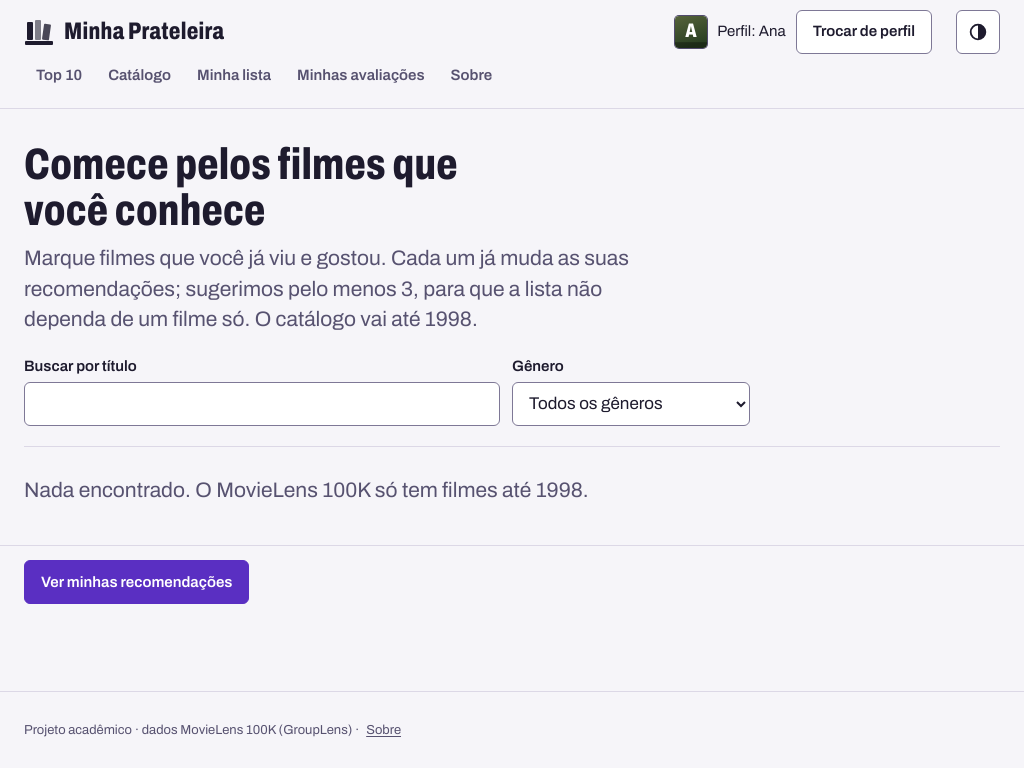
Scenario: erro preso ao perfil e conclusão única › o erro do perfil A não aparece no onboarding do perfil B
This screenshot has width=1024, height=768.
Expected: the text "Perfil: Ana" is shown, [717,20,786,44]
Click the link "Top 10".
click(59, 75)  # box [36,67,82,83]
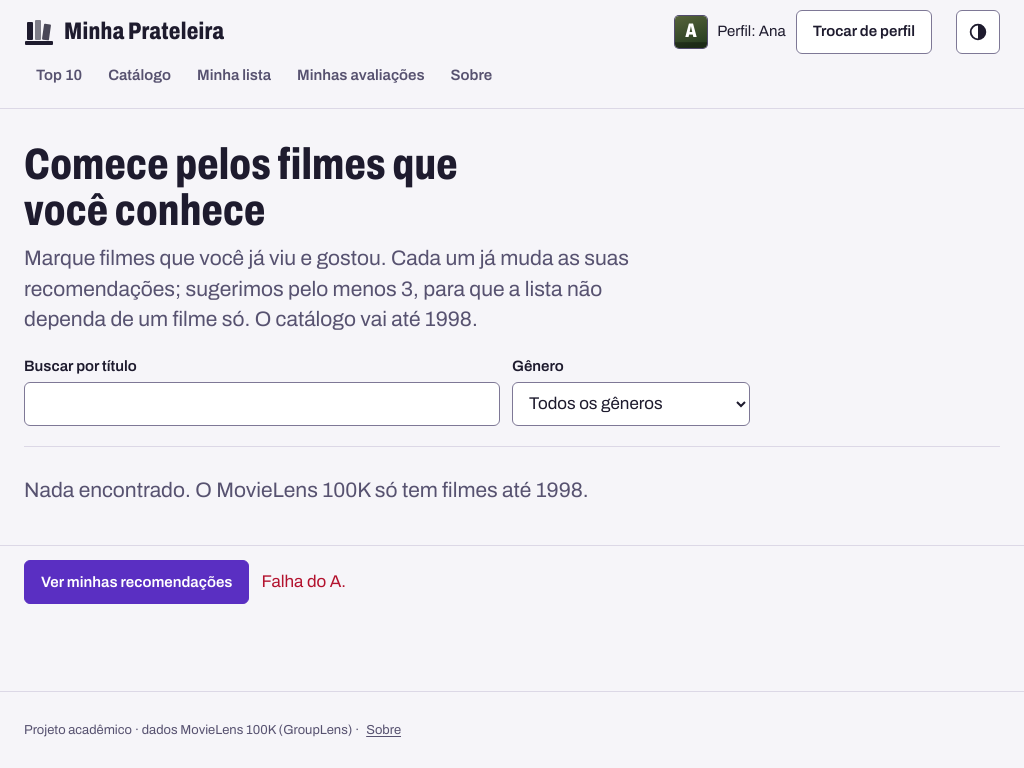
Result: the message reads "Falha do A." at [261,572,346,591]
Click the button "Trocar de perfil".
click(864, 32)  # box [796,10,932,54]
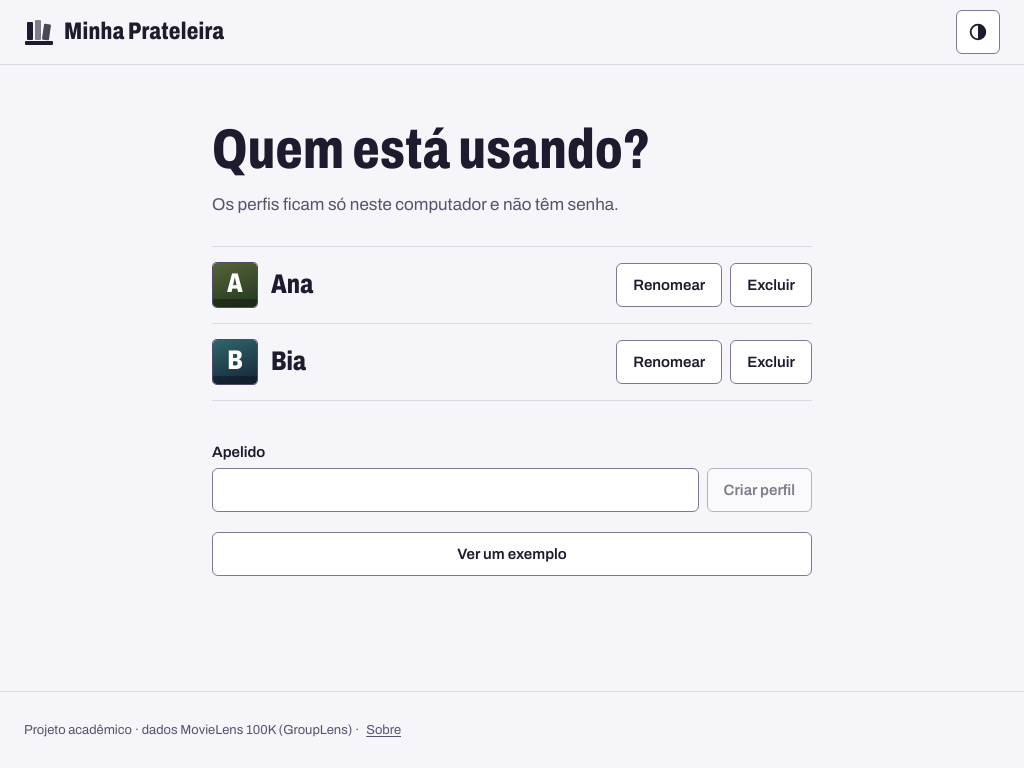
Click the button "B Bia".
click(235, 362)  # box [212,334,608,390]
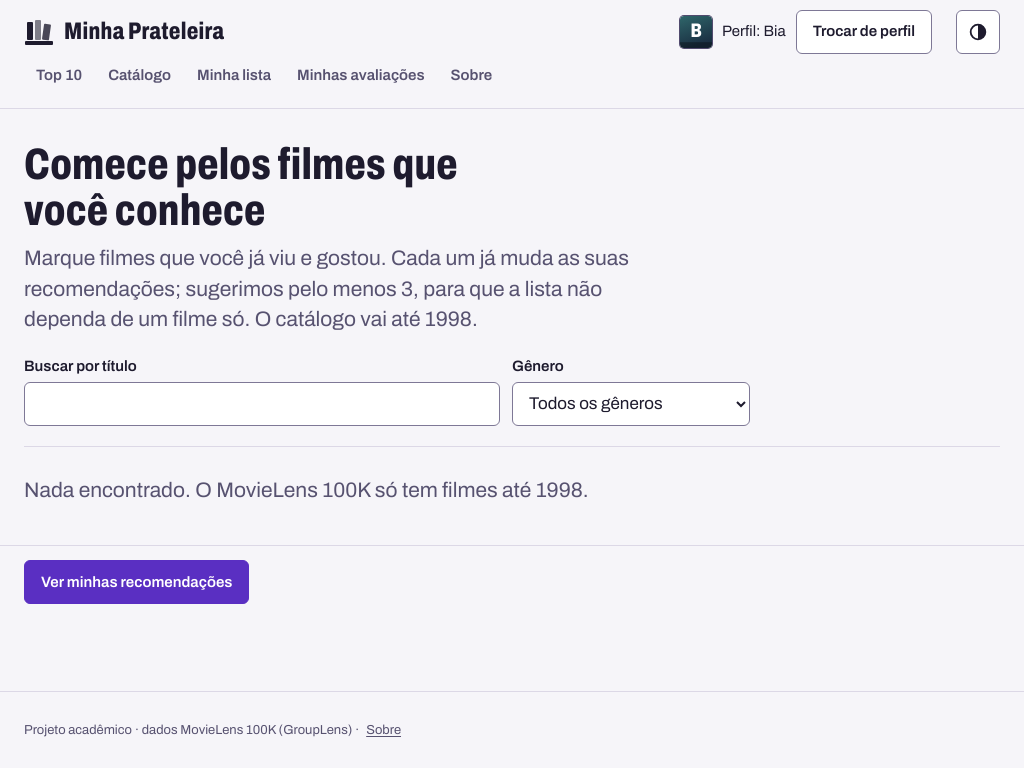
Expected: the message "Falha do A." is not shown
Result: the text "Perfil: Bia" is shown at [722,20,786,44]
Result: the text "Marque filmes que você já viu e gostou" is shown at [24,247,629,330]
